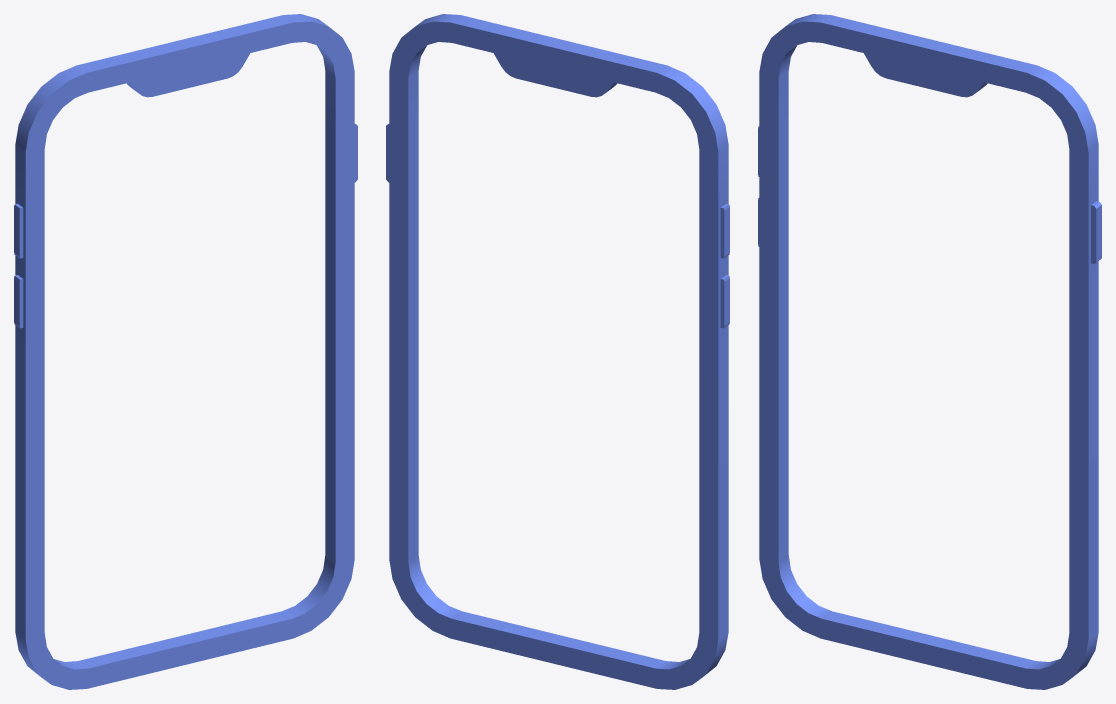
The model's file is phone.gltf.
3 views of the same model, side by side, from view 1: azimuth 30°, elevation 25°; view 2: azimuth 150°, elevation 25°; view 3: azimuth 330°, elevation 25° (orthographic).
Parts seen in each view (by area): view 1: phone; view 2: phone; view 3: phone.
Boxes of the visible parts, <box> form: phone: <box>14,14,357,689</box>; phone: <box>386,14,729,689</box>; phone: <box>758,14,1101,689</box>.
Bounding box in the file's own units: 0.0567 × 0.0987 × 0.00297.
